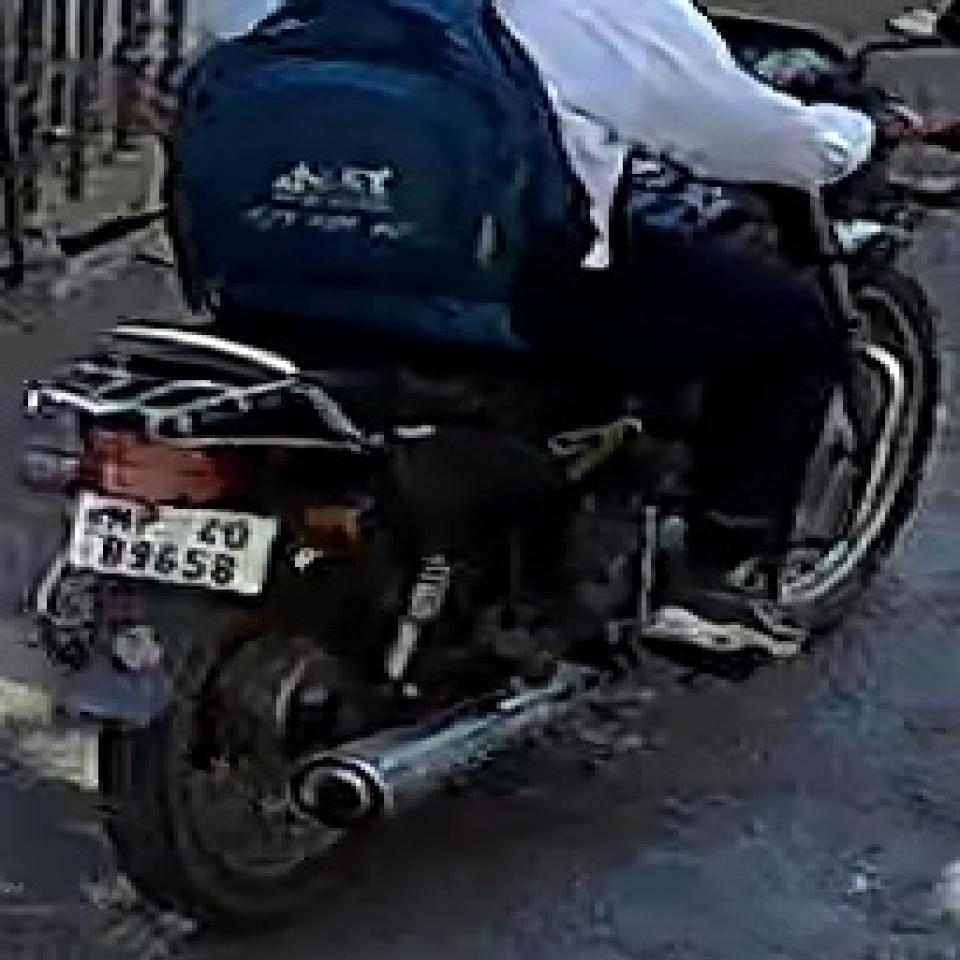tail_light: (87, 425, 220, 501)
